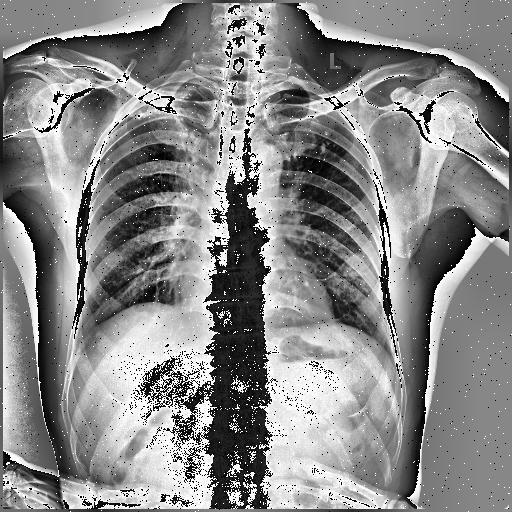10- Pleural effusion: (68, 315, 96, 360)
11- Pleural thickening: (128, 80, 202, 118), (126, 82, 194, 118), (132, 84, 194, 118), (68, 315, 96, 360)
13- Pulmonary fibrosis: (166, 107, 201, 159), (170, 106, 196, 160), (310, 115, 339, 159), (307, 120, 337, 161), (318, 130, 340, 157)
2- Calcification: (318, 130, 340, 157)
